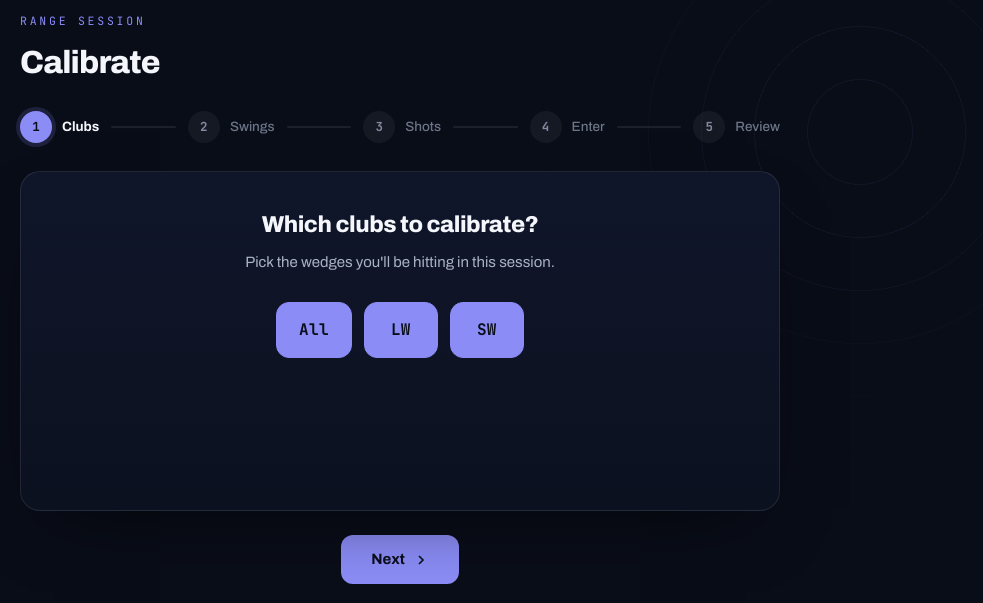
Test: CalibrateView › back button on shot count selector returns to swing type selector
Click the button with test id "club-next-button".
click(400, 560)  # box [341, 535, 459, 584]
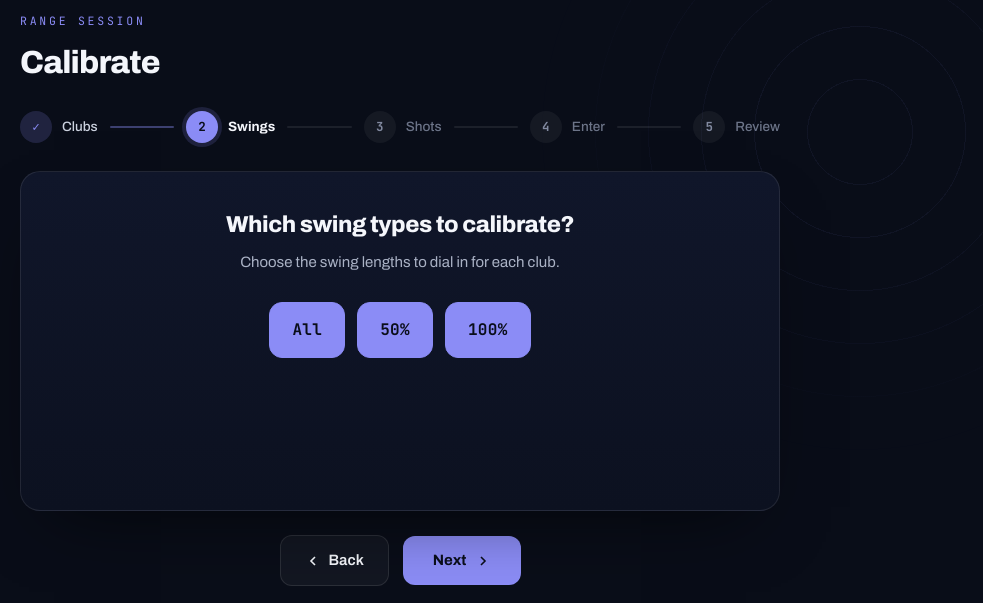
Click the button with test id "swing-next-button".
click(462, 561)  # box [403, 536, 520, 585]
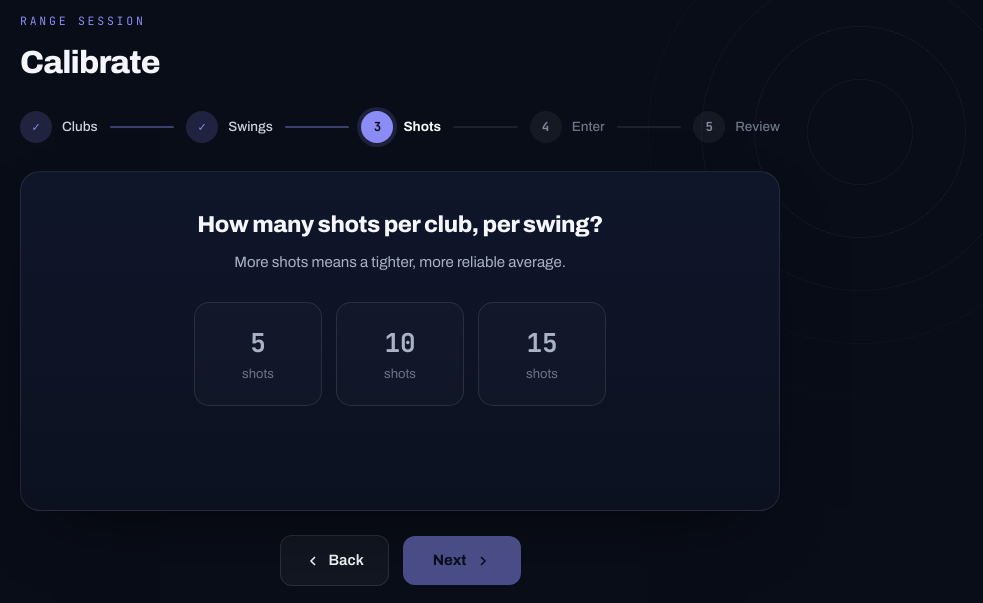
Click the button with test id "shot-count-back-button".
click(334, 561)  # box [280, 535, 389, 586]
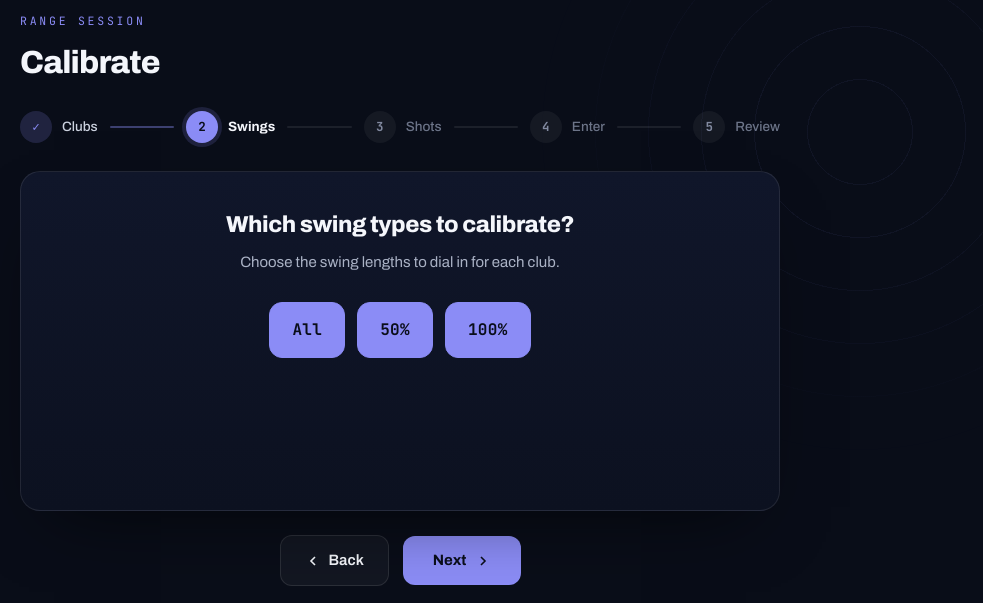
Now the button with test id "swing-select-all" is shown, box [269, 302, 345, 358]
